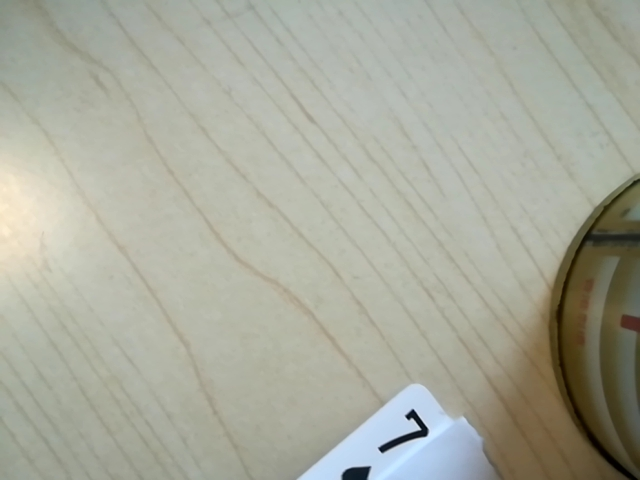ht 7: (311, 415, 448, 480)
